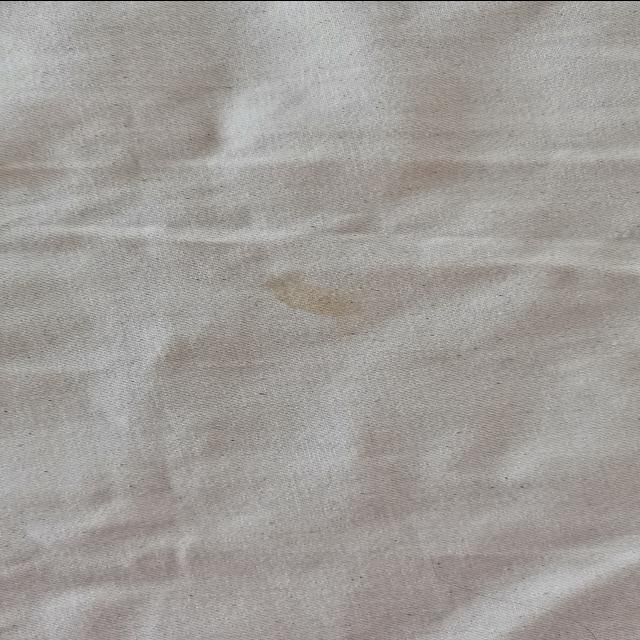taaaches: (246, 266, 376, 316)
